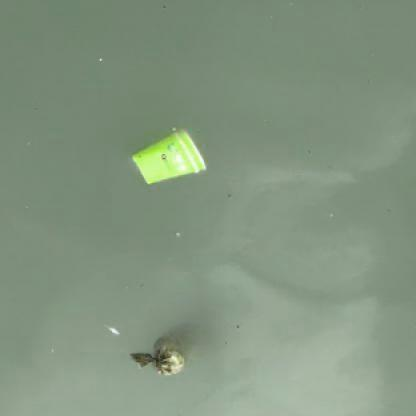Plastic: (127, 126, 211, 187)
